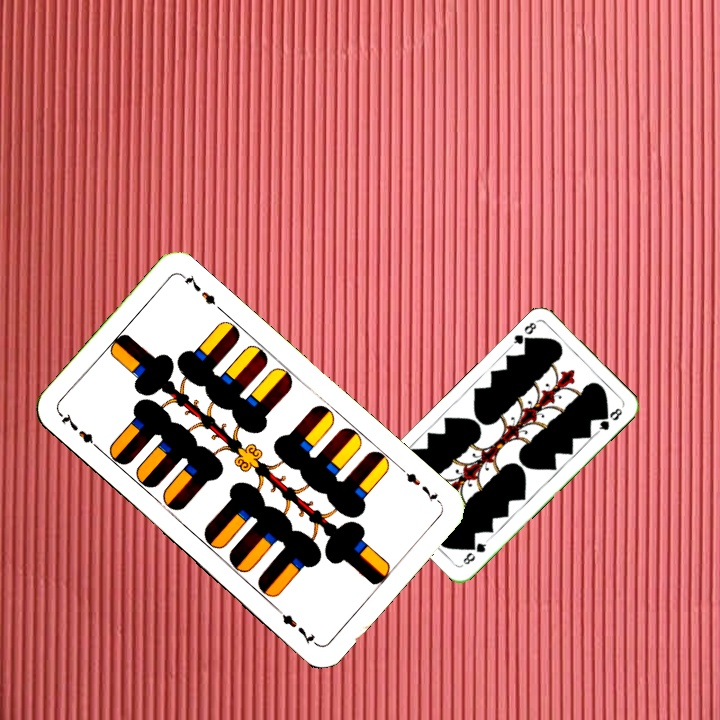E7: (55, 409, 104, 454), (395, 463, 444, 507)
G8: (507, 317, 539, 349), (459, 536, 490, 567)
